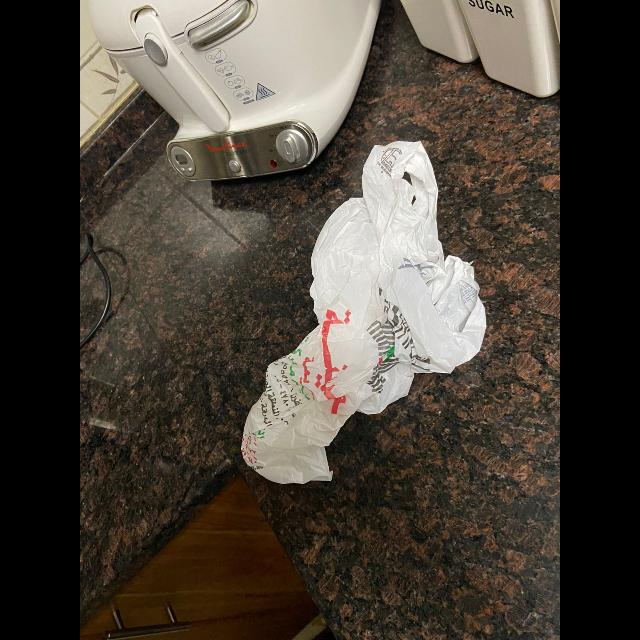plastic_bag: (242, 140, 488, 486)
